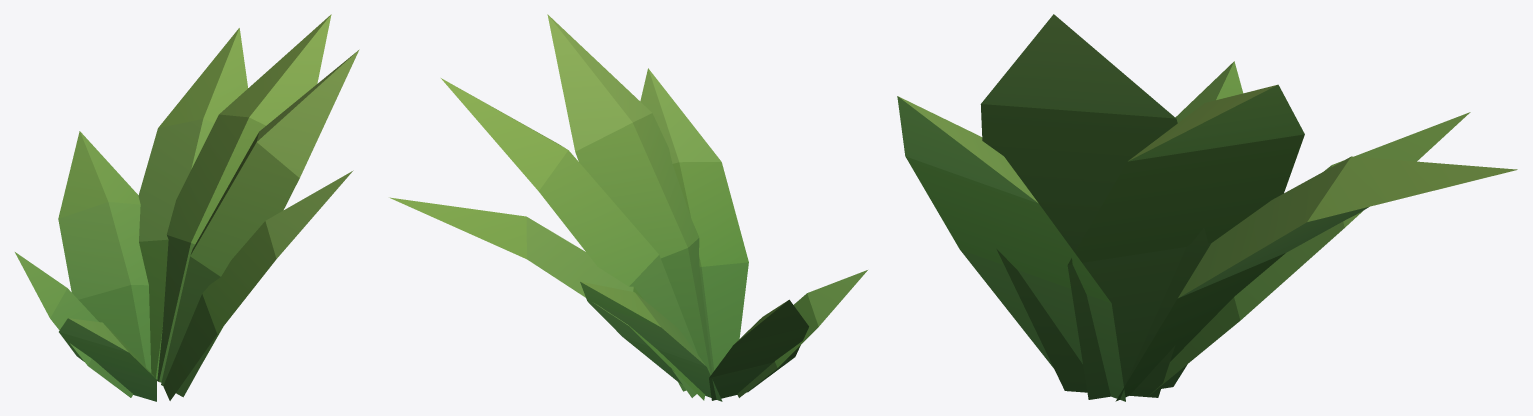
Rendered from plant_grass_arch_v3.fbx.
The picture shows the model from 3 angles, left to right: view 1: azimuth 30°, elevation 25°; view 2: azimuth 150°, elevation 25°; view 3: azimuth 270°, elevation 25°; orthographic projection. The views are drawn at different scales.
Visible parts, largest first — view 1: plant_grass_arch_v3; view 2: plant_grass_arch_v3; view 3: plant_grass_arch_v3.
Boxes of the visible parts, x1,y1,x2,y2 form: plant_grass_arch_v3: (15, 14, 359, 401); plant_grass_arch_v3: (389, 14, 867, 401); plant_grass_arch_v3: (897, 14, 1517, 401).
Bounding box in the file's own units: 242 × 208 × 226.
